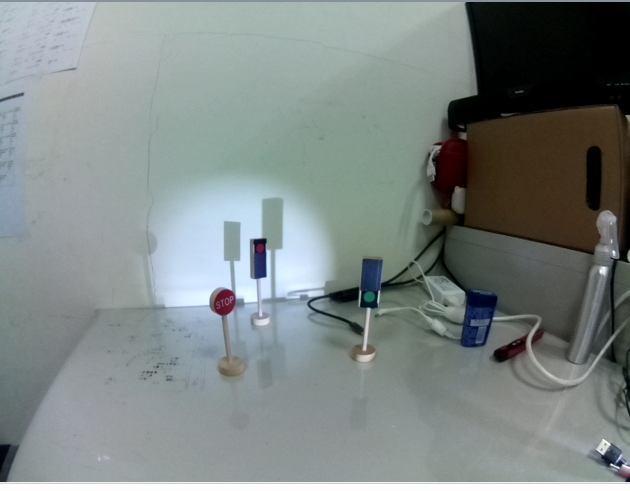Green: (357, 255, 383, 313)
Red: (248, 235, 269, 281)
Stop: (207, 286, 242, 320)
